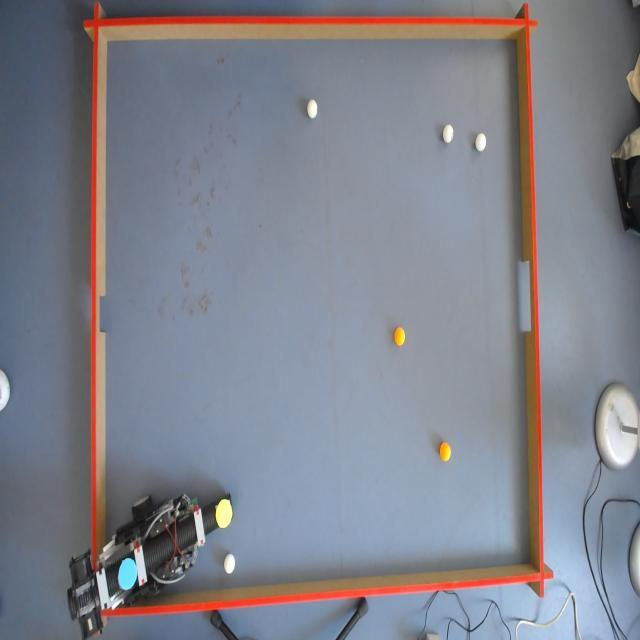orange: (394, 326, 408, 346), (440, 442, 452, 462)
robot: (64, 490, 227, 636)
robot-front: (212, 499, 236, 529)
robot-rear: (116, 555, 138, 589)
white: (308, 98, 320, 119), (225, 553, 237, 574), (475, 132, 487, 152), (442, 124, 453, 144)
